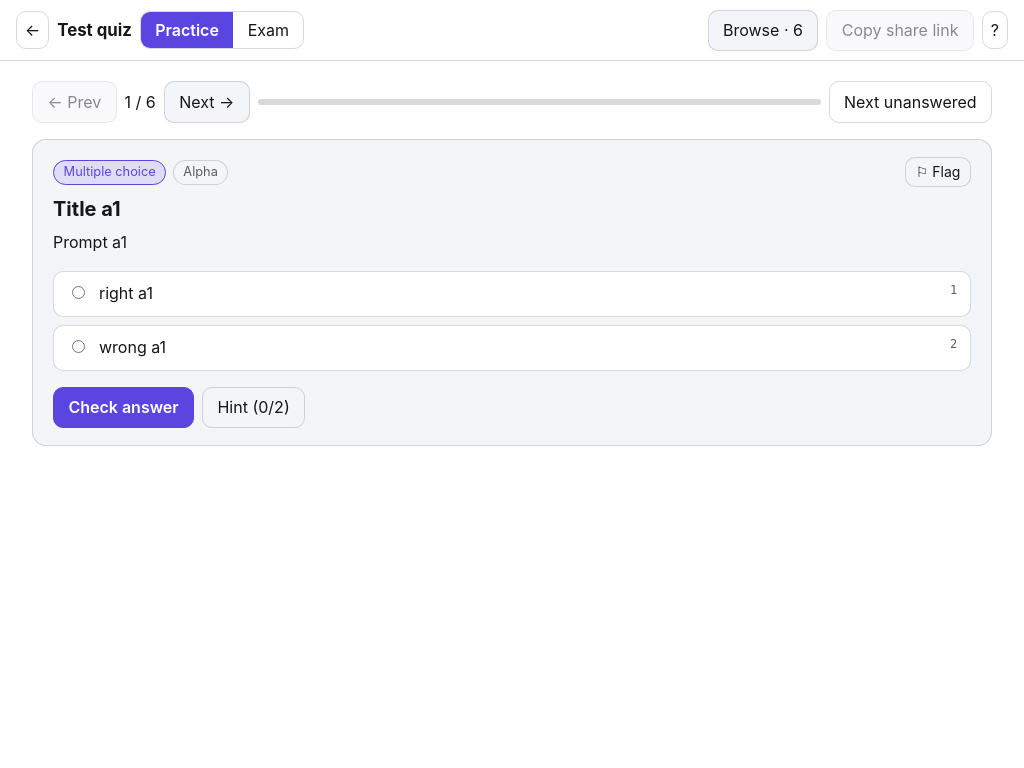
Scenario: resetting progress › "Forget my result" resets just the current question
Click the radio button labelled "wrong a1 2": (78, 346) [72, 340, 85, 353]
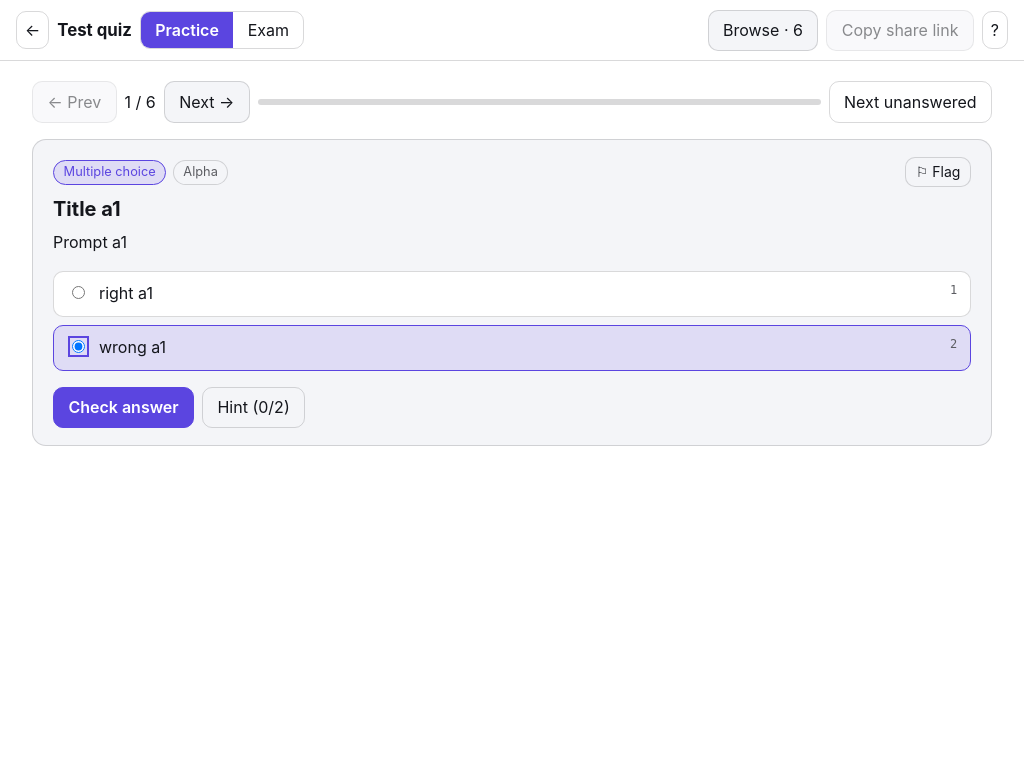
Click the button "Check answer": (124, 407) [53, 386, 194, 428]
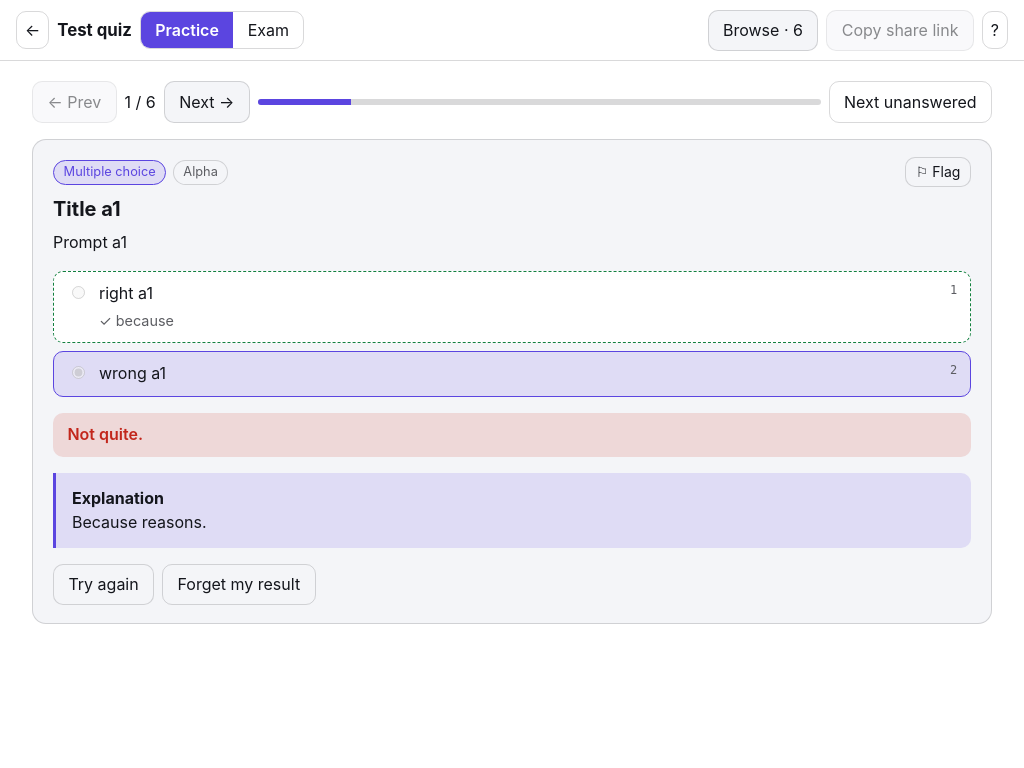
Click the button with aria-label "Next question (j)": (207, 102) [164, 81, 250, 123]
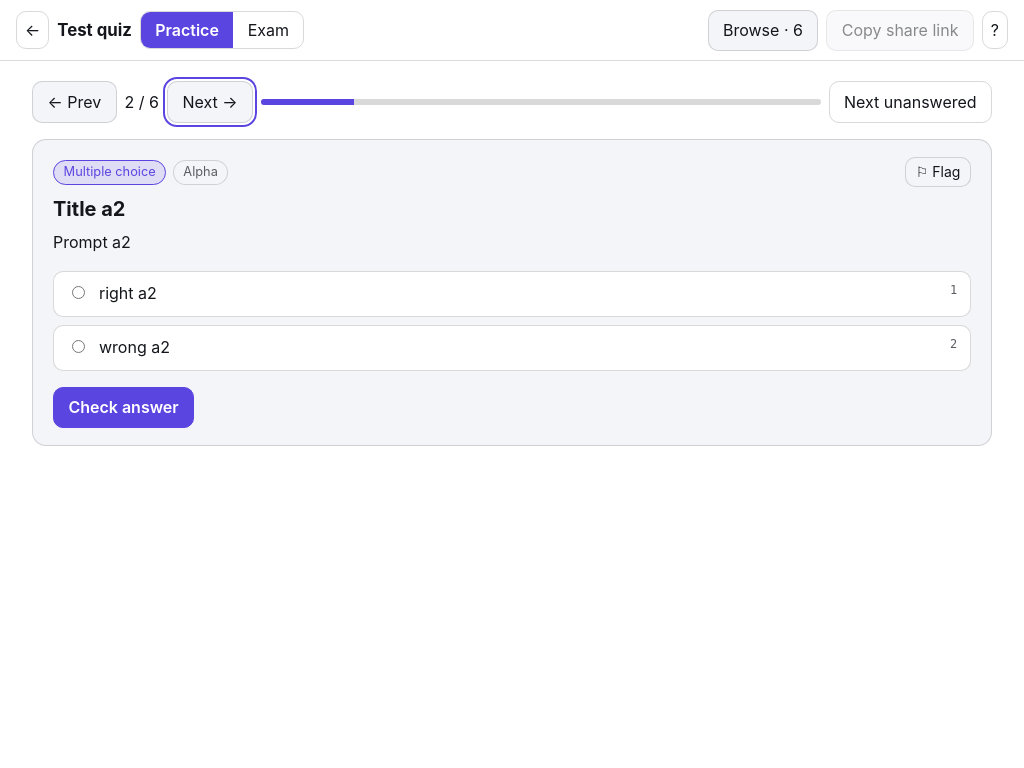
Click the radio button labelled "right a2 1": (78, 292) [72, 286, 85, 299]
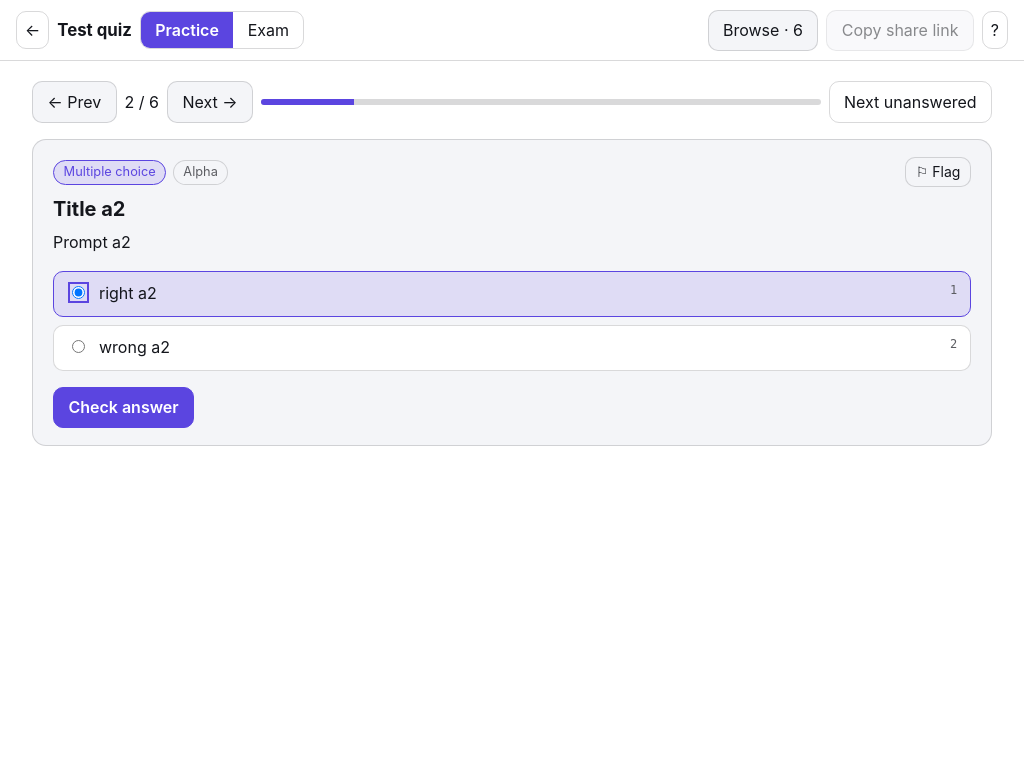
Click the button "Check answer": (124, 407) [53, 386, 194, 428]
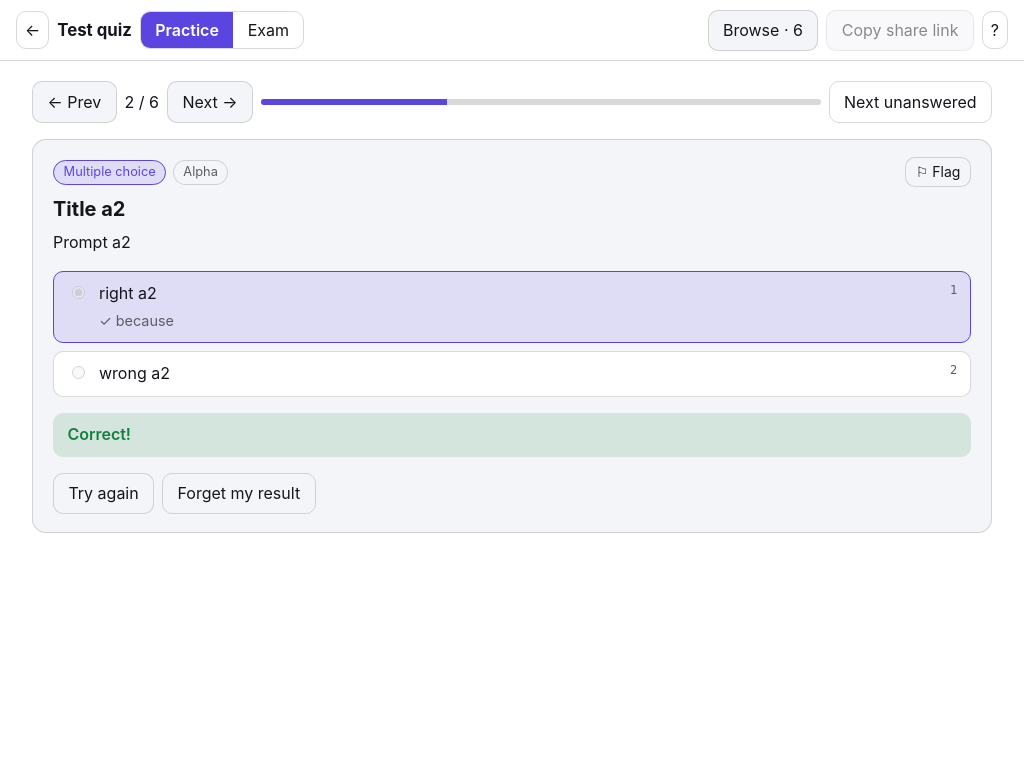
Click the button "Forget my result": (239, 494) [162, 473, 316, 514]
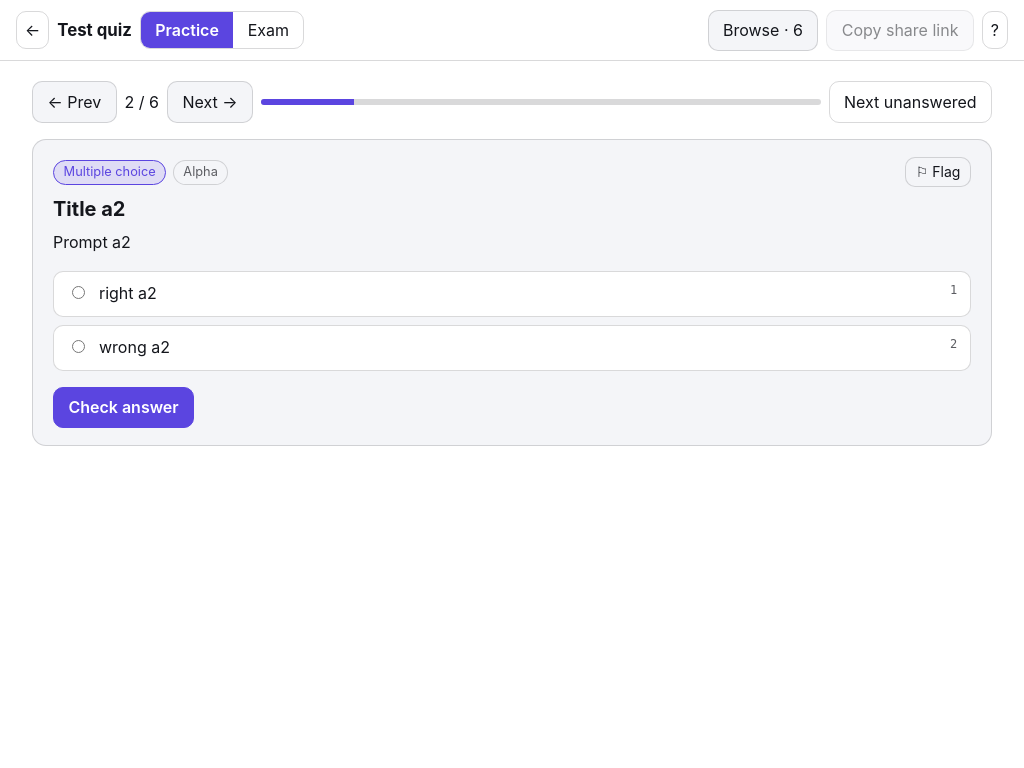
Now the message "Correct!" is gone
Now the button "Forget my result" is gone
